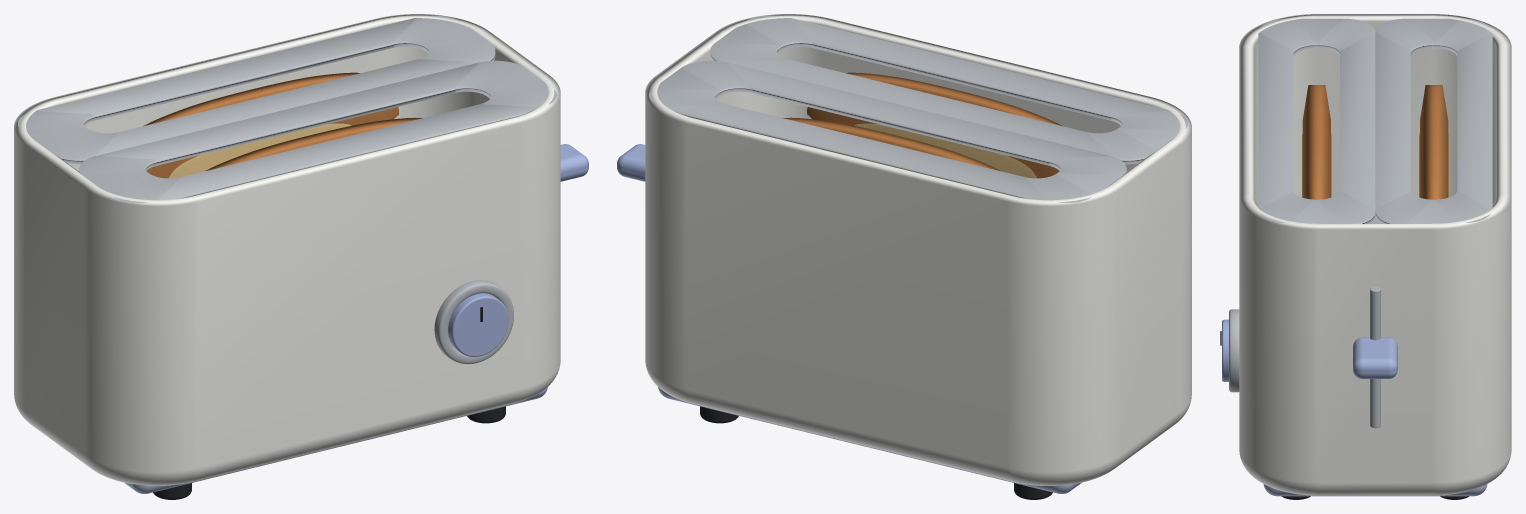
Rendered from two-slot-toaster.glb.
3 views of the same model, side by side, from view 1: azimuth 30°, elevation 25°; view 2: azimuth 150°, elevation 25°; view 3: azimuth 270°, elevation 25° (orthographic). The views are drawn at different scales.
Parts seen in each view (by area): view 1: hollow-rounded-housing, fitted-slot-deck-with-real-opening (×2), rounded-bread-crust (×2), browning-dial-and-lever-guide-010, machined-annular-ring, soft-toasted-bread-face, closed-enamel-toaster-002, popping-lever-013; view 2: hollow-rounded-housing, fitted-slot-deck-with-real-opening (×2), rounded-bread-crust (×2), soft-toasted-bread-face, closed-enamel-toaster-002, popping-lever-013; view 3: hollow-rounded-housing, fitted-slot-deck-with-real-opening (×2), rounded-bread-crust (×2), popping-lever-013, browning-dial-and-lever-guide-012, machined-annular-ring, closed-enamel-toaster-002, browning-dial-and-lever-guide-010.
Boxes of the visible parts, <box> form: hollow-rounded-housing: <box>14,14,560,485</box>; fitted-slot-deck-with-real-opening (×2): <box>18,15,556,202</box>; rounded-bread-crust (×2): <box>143,72,422,178</box>; browning-dial-and-lever-guide-010: <box>448,293,508,356</box>; machined-annular-ring: <box>434,280,513,364</box>; soft-toasted-bread-face: <box>169,123,351,178</box>; closed-enamel-toaster-002: <box>124,387,547,493</box>; popping-lever-013: <box>560,144,588,181</box>; hollow-rounded-housing: <box>645,14,1191,485</box>; fitted-slot-deck-with-real-opening (×2): <box>649,15,1187,202</box>; rounded-bread-crust (×2): <box>783,72,1062,178</box>; soft-toasted-bread-face: <box>854,123,1036,178</box>; closed-enamel-toaster-002: <box>658,387,1081,493</box>; popping-lever-013: <box>617,144,645,181</box>; hollow-rounded-housing: <box>1239,14,1511,495</box>; fitted-slot-deck-with-real-opening (×2): <box>1258,18,1492,223</box>; rounded-bread-crust (×2): <box>1302,85,1448,199</box>; popping-lever-013: <box>1353,337,1397,378</box>; browning-dial-and-lever-guide-012: <box>1370,286,1380,428</box>; machined-annular-ring: <box>1229,309,1239,392</box>; closed-enamel-toaster-002: <box>1263,484,1487,496</box>; browning-dial-and-lever-guide-010: <box>1222,319,1228,381</box>.
Bounding box in the file's own units: 2 × 1.15 × 1.01.
